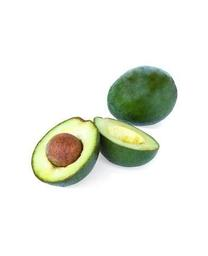avocado: (31, 117, 100, 188), (107, 66, 177, 127), (93, 115, 159, 168)
